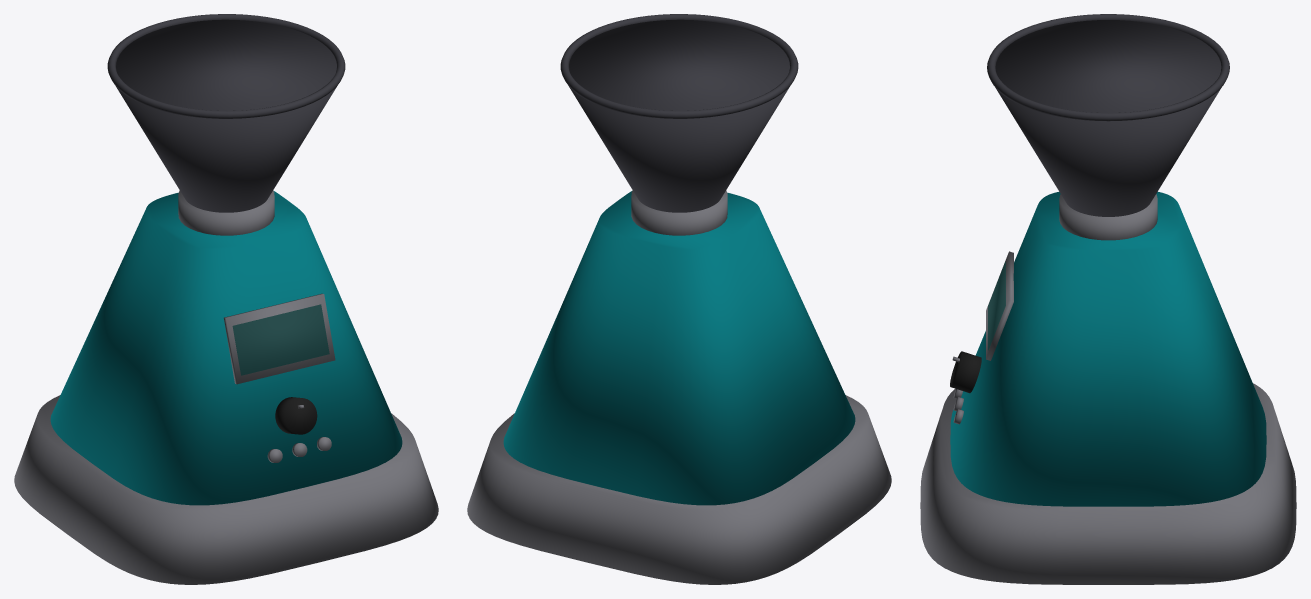
The model's file is vortex_mixer.glb.
3 renders of one model, left to right at view 1: azimuth 30°, elevation 25°; view 2: azimuth 150°, elevation 25°; view 3: azimuth 270°, elevation 25°, orthographic. The views are drawn at different scales.
Parts seen in each view (by area): view 1: Body, BaseRim, Cup_Main, LCDScreen, Cup_Lip, ControlPanel, Neck, Knob_Main; view 2: Body, BaseRim, Cup_Main, Cup_Lip, Neck; view 3: Body, BaseRim, Cup_Main, Cup_Lip, Neck, Knob_Main, ControlPanel, LCDScreen.
Boxes of the visible parts, left/top/right/bottom form: Body: left=50, top=191, right=402, bottom=505; BaseRim: left=14, top=395, right=438, bottom=584; Cup_Main: left=116, top=19, right=336, bottom=212; LCDScreen: left=232, top=304, right=329, bottom=375; Cup_Lip: left=107, top=14, right=345, bottom=118; ControlPanel: left=223, top=293, right=335, bottom=384; Neck: left=178, top=190, right=274, bottom=235; Knob_Main: left=275, top=397, right=317, bottom=434; Body: left=503, top=191, right=855, bottom=505; BaseRim: left=467, top=395, right=891, bottom=584; Cup_Main: left=569, top=19, right=789, bottom=212; Cup_Lip: left=560, top=14, right=798, bottom=118; Neck: left=631, top=190, right=727, bottom=235; Body: left=950, top=192, right=1266, bottom=506; BaseRim: left=920, top=383, right=1296, bottom=584; Cup_Main: left=995, top=20, right=1221, bottom=216; Cup_Lip: left=987, top=14, right=1229, bottom=121; Neck: left=1059, top=194, right=1157, bottom=240; Knob_Main: left=950, top=351, right=981, bottom=393; ControlPanel: left=986, top=251, right=1013, bottom=360; LCDScreen: left=988, top=262, right=1005, bottom=350.
Bounding box in the file's own units: 0.13 × 0.1685 × 0.13.
